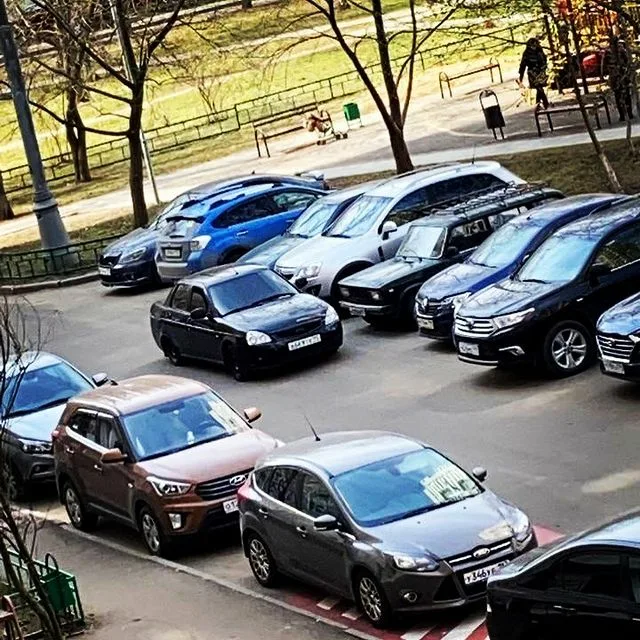Car: (237, 430, 537, 627), (52, 374, 285, 556), (274, 160, 527, 307), (452, 192, 640, 377), (336, 184, 567, 325), (414, 193, 628, 341), (98, 170, 329, 288), (149, 264, 343, 380), (486, 509, 640, 640), (154, 182, 338, 284), (14, 350, 109, 488), (235, 180, 384, 267), (596, 293, 640, 384)
